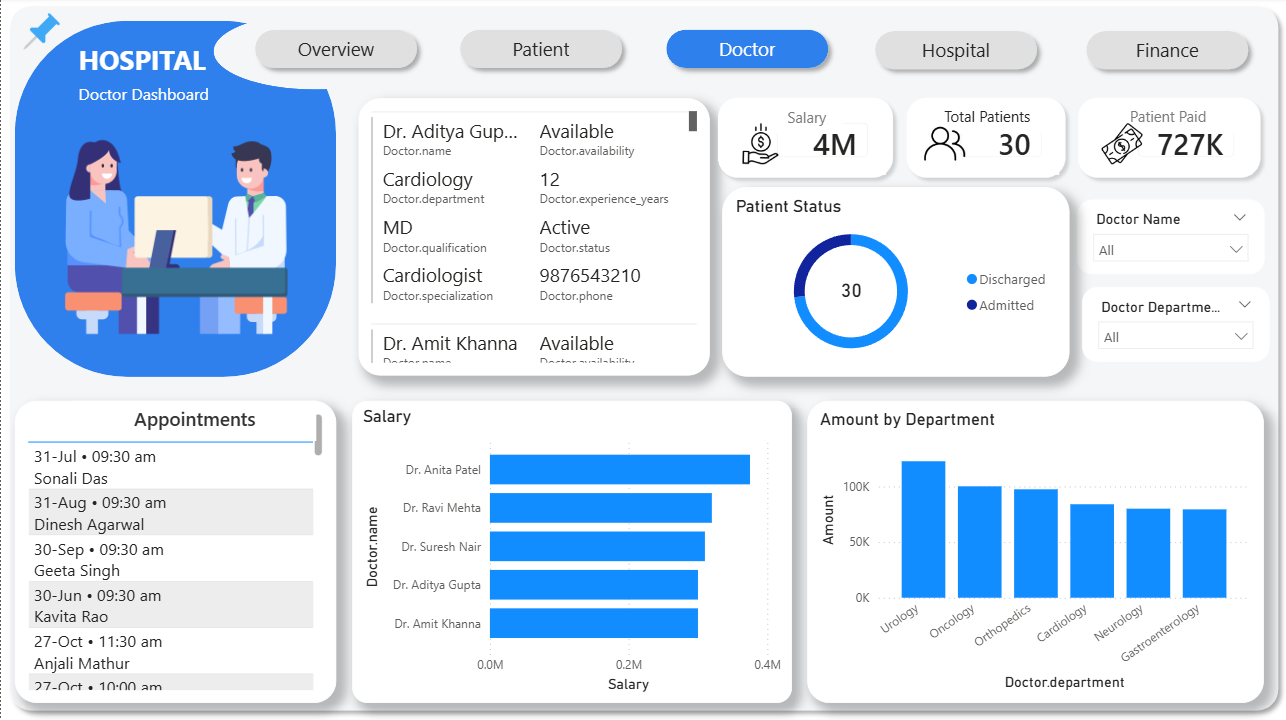

This screenshot's page, from the dashboard's own definition file:
{"tool":"powerbi","page":{"name":"Doctor","canvas":[1280,720],"ordinal":3},"visuals":[{"type":"shape","box":[0,0,1280,719],"z":0},{"type":"shape","title":"kpi_bg_temp","box":[705.3,92.1,190.3,95.8],"z":0,"group":"g1"},{"type":"shape","title":"kpi_bg_temp","box":[892.5,92.1,174.2,95.8],"z":0,"group":"g3"},{"type":"shape","title":"kpi_bg_temp","box":[1063.6,92.1,197.8,95.8],"z":0,"group":"g2"},{"type":"shape","box":[447.8,23.6,179.1,56],"z":1000},{"type":"cardVisual","fields":{"Data":["Sum(Patient.Doctor.salary)"]},"box":[754.7,108,125.7,68.4],"z":1000,"group":"g1"},{"type":"cardVisual","fields":{"Data":["Measure Calculation.Patients"]},"box":[937.7,108,115,68.4],"z":1000,"group":"g3"},{"type":"cardVisual","fields":{"Data":["Sum(Hospital Bills.Amount)"]},"box":[1114.9,108,130.6,68.4],"z":1000,"group":"g2"},{"type":"shape","box":[653.1,23.6,179.1,56],"z":2000},{"type":"textbox","box":[913.1,103.2,134.4,32.3],"z":2000,"group":"g3"},{"type":"textbox","box":[1087,103.2,152.6,32.3],"z":2000,"group":"g2"},{"type":"textbox","box":[765.5,104.7,73.9,31.1],"z":2000,"group":"g1"},{"type":"shape","box":[860.8,24.9,179.1,56],"z":3000},{"type":"image","box":[717.8,126.2,76.2,40.9],"z":3000,"group":"g1"},{"type":"image","box":[904,126.2,69.7,40.9],"z":3000,"group":"g3"},{"type":"image","box":[1076.6,126.2,79.2,40.9],"z":3000,"group":"g2"},{"type":"shape","box":[1071,24.9,179.1,56],"z":4000},{"type":"shape","title":"Blue_base","box":[13.7,23.6,319.7,354.5],"z":5000},{"type":"shape","box":[211.5,16.2,202.8,75.9],"z":6000},{"type":"textbox","box":[72.1,38.6,139.3,53.5],"z":7000},{"type":"shape","box":[243.8,23.6,179.1,56],"z":8000},{"type":"textbox","box":[72.1,79.6,160.5,41.1],"z":9000},{"type":"shape","box":[23.6,114.4,301,226.4],"z":10000},{"type":"image","box":[23.6,114.4,301,248.8],"z":11000},{"type":"tableEx","fields":{"Values":["Appointment.Appointment Card Text"]},"box":[13.7,401.8,319.7,301],"z":12000},{"type":"multiRowCard","fields":{"Values":["Patient.Doctor.name","Patient.Doctor.availability","Patient.Doctor.department","Patient.Doctor.experience_years","Patient.Doctor.qualification","Patient.Doctor.status","Patient.Doctor.specialization","Patient.Doctor.phone"]},"box":[355.8,100.8,349.6,276.2],"z":13000},{"type":"slicer","fields":{"Values":["Patient.Doctor.name"]},"box":[1071,201.5,186.6,74.6],"z":14000},{"type":"group","id":"g1","title":"kpi_patients","box":[705.3,92.1,190.3,95.8],"z":15000},{"type":"group","id":"g2","title":"kpi_patients","box":[1063.6,92.1,199,95.8],"z":16000},{"type":"group","id":"g3","title":"kpi_patients","box":[892.5,92.1,174.2,95.8],"z":17000},{"type":"donutChart","title":"Patient Status","fields":{"Category":["Patient.status"],"Y":["CountNonNull(Patient.patient_id)"]},"box":[717.8,189.1,345.8,189.1],"z":18000},{"type":"card","fields":{"Values":["Count(Patient.patient_id)"]},"box":[817.3,262.5,58.5,59.7],"z":19000},{"type":"barChart","title":"Salary","fields":{"Category":["Patient.Doctor.name"],"Y":["Sum(Patient.Doctor.salary)"]},"box":[348.9,401.8,437.9,301],"z":20000},{"type":"columnChart","title":"Amount by Department","fields":{"Category":["Patient.Doctor.department"],"Y":["Measure Calculation.Amount"]},"box":[802.4,401.8,454,301],"z":21000},{"type":"slicer","fields":{"Values":["Patient.Doctor.department"]},"box":[1076,288.6,186.6,74.6],"z":22000},{"type":"textbox","box":[72.1,401.8,241.3,39.8],"z":23000},{"type":"image","box":[13.7,16.2,53.5,36.1],"z":24000}]}

Visuals, with their boxes in screenshot pixels (x1, y1, x2, y2), scaled from the page's 1280x720 canvas onto the 1286x720 screenshot:
shape: select_region(0, 0, 1285, 719)
"kpi_bg_temp" shape: select_region(709, 92, 900, 188)
"kpi_bg_temp" shape: select_region(897, 92, 1072, 188)
"kpi_bg_temp" shape: select_region(1069, 92, 1267, 188)
shape: select_region(450, 24, 630, 80)
cardVisual - Sum(Patient.Doctor.salary): select_region(758, 108, 885, 176)
cardVisual - Measure Calculation.Patients: select_region(942, 108, 1058, 176)
cardVisual - Sum(Hospital Bills.Amount): select_region(1120, 108, 1251, 176)
shape: select_region(656, 24, 836, 80)
textbox: select_region(917, 103, 1052, 136)
textbox: select_region(1092, 103, 1245, 136)
textbox: select_region(769, 105, 843, 136)
shape: select_region(865, 25, 1045, 81)
image: select_region(721, 126, 798, 167)
image: select_region(908, 126, 978, 167)
image: select_region(1082, 126, 1161, 167)
shape: select_region(1076, 25, 1256, 81)
"Blue_base" shape: select_region(14, 24, 335, 378)
shape: select_region(212, 16, 416, 92)
textbox: select_region(72, 39, 212, 92)
shape: select_region(245, 24, 425, 80)
textbox: select_region(72, 80, 234, 121)
shape: select_region(24, 114, 326, 341)
image: select_region(24, 114, 326, 363)
tableEx - Appointment.Appointment Card Text: select_region(14, 402, 335, 703)
multiRowCard - Patient.Doctor.name x Patient.Doctor.availability: select_region(357, 101, 709, 377)
slicer - Patient.Doctor.name: select_region(1076, 202, 1263, 276)
"kpi_patients" group: select_region(709, 92, 900, 188)
"kpi_patients" group: select_region(1069, 92, 1269, 188)
"kpi_patients" group: select_region(897, 92, 1072, 188)
"Patient Status" donutChart: select_region(721, 189, 1069, 378)
card - Count(Patient.patient_id): select_region(821, 262, 880, 322)
"Salary" barChart: select_region(351, 402, 790, 703)
"Amount by Department" columnChart: select_region(806, 402, 1262, 703)
slicer - Patient.Doctor.department: select_region(1081, 289, 1269, 363)
textbox: select_region(72, 402, 315, 442)
image: select_region(14, 16, 68, 52)
